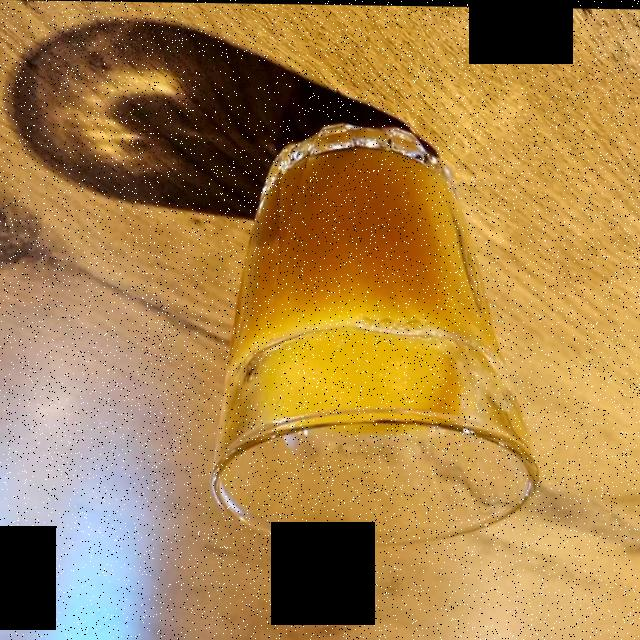juice-orange: (231, 142, 505, 435)
